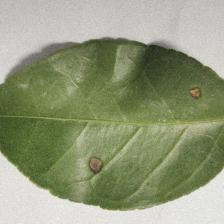canker: (61, 116, 119, 190)
